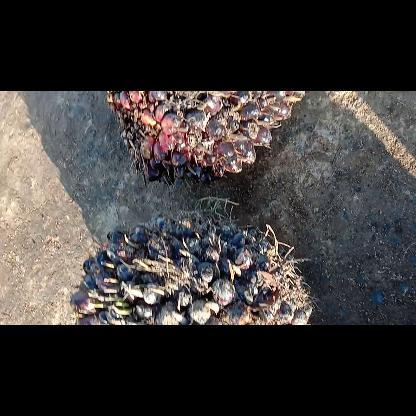TBS mentah: (69, 210, 319, 324), (100, 91, 308, 187)
